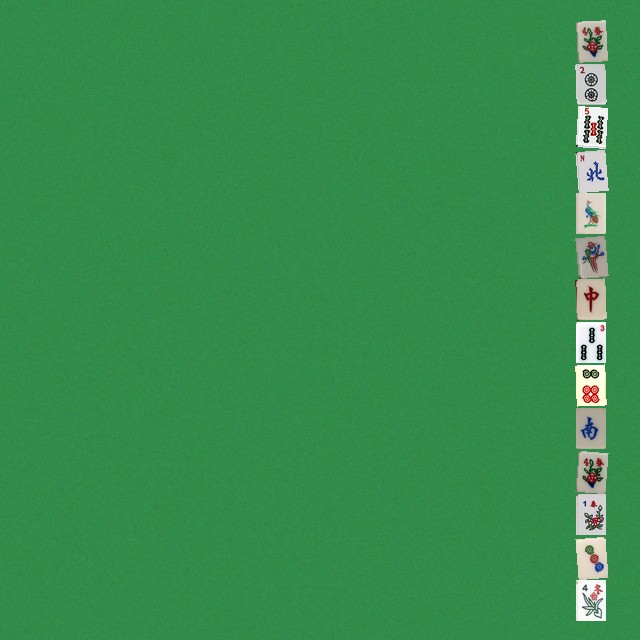tile: (575, 20, 605, 61), (575, 63, 605, 104), (575, 106, 605, 147), (575, 149, 605, 190), (575, 192, 605, 233), (575, 235, 605, 276), (575, 278, 605, 319), (575, 321, 605, 362), (575, 364, 605, 405), (575, 407, 605, 448), (575, 450, 605, 491), (575, 493, 605, 534), (575, 536, 605, 577), (575, 579, 605, 620)
